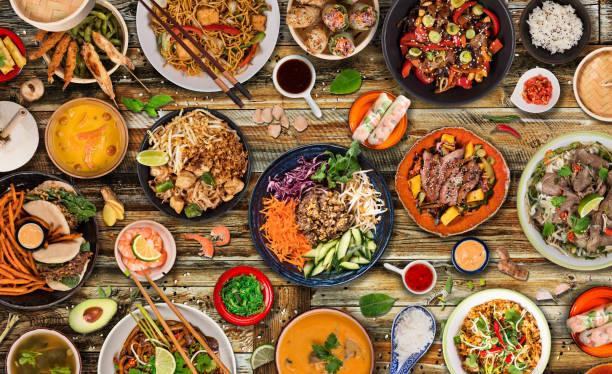Braised Crucian Carp: (248, 143, 387, 285), (381, 1, 513, 106), (1, 171, 99, 308), (136, 0, 278, 93), (516, 130, 610, 268), (136, 107, 248, 219), (395, 127, 509, 236), (104, 305, 245, 374), (442, 287, 552, 372), (44, 97, 128, 179), (275, 306, 376, 373), (285, 0, 375, 61)
